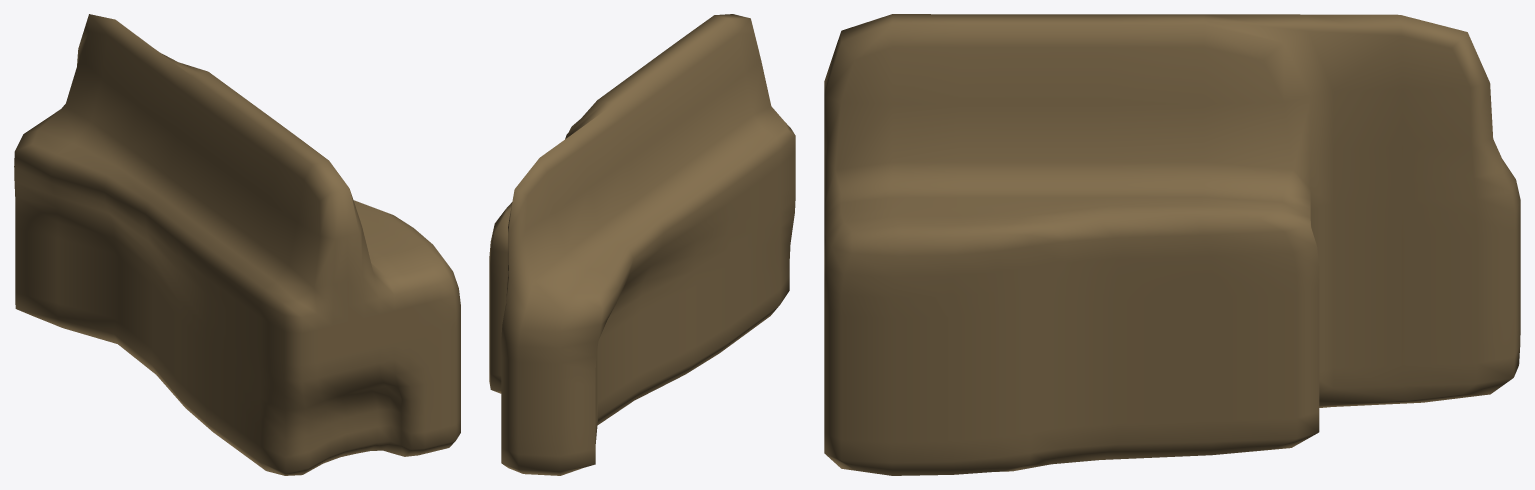
Rendered from LargeShaleRock.fbx.
The picture shows the model from 3 angles, left to right: view 1: azimuth 30°, elevation 25°; view 2: azimuth 150°, elevation 25°; view 3: azimuth 270°, elevation 25°; orthographic projection. The views are drawn at different scales.
Parts seen in each view (by area): view 1: pCube1; view 2: pCube1; view 3: pCube1.
Boxes of the visible parts, <box> form: pCube1: <box>14,14,460,475</box>; pCube1: <box>489,14,795,475</box>; pCube1: <box>824,14,1520,475</box>.
Bounding box in the file's own units: 1.16 × 1.56 × 2.55.
